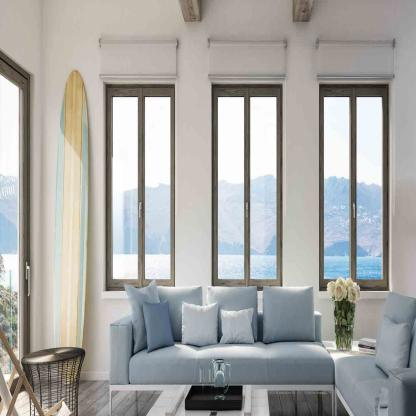Window: (102, 83, 176, 289), (212, 86, 282, 282), (322, 86, 389, 286), (1, 49, 33, 394)
